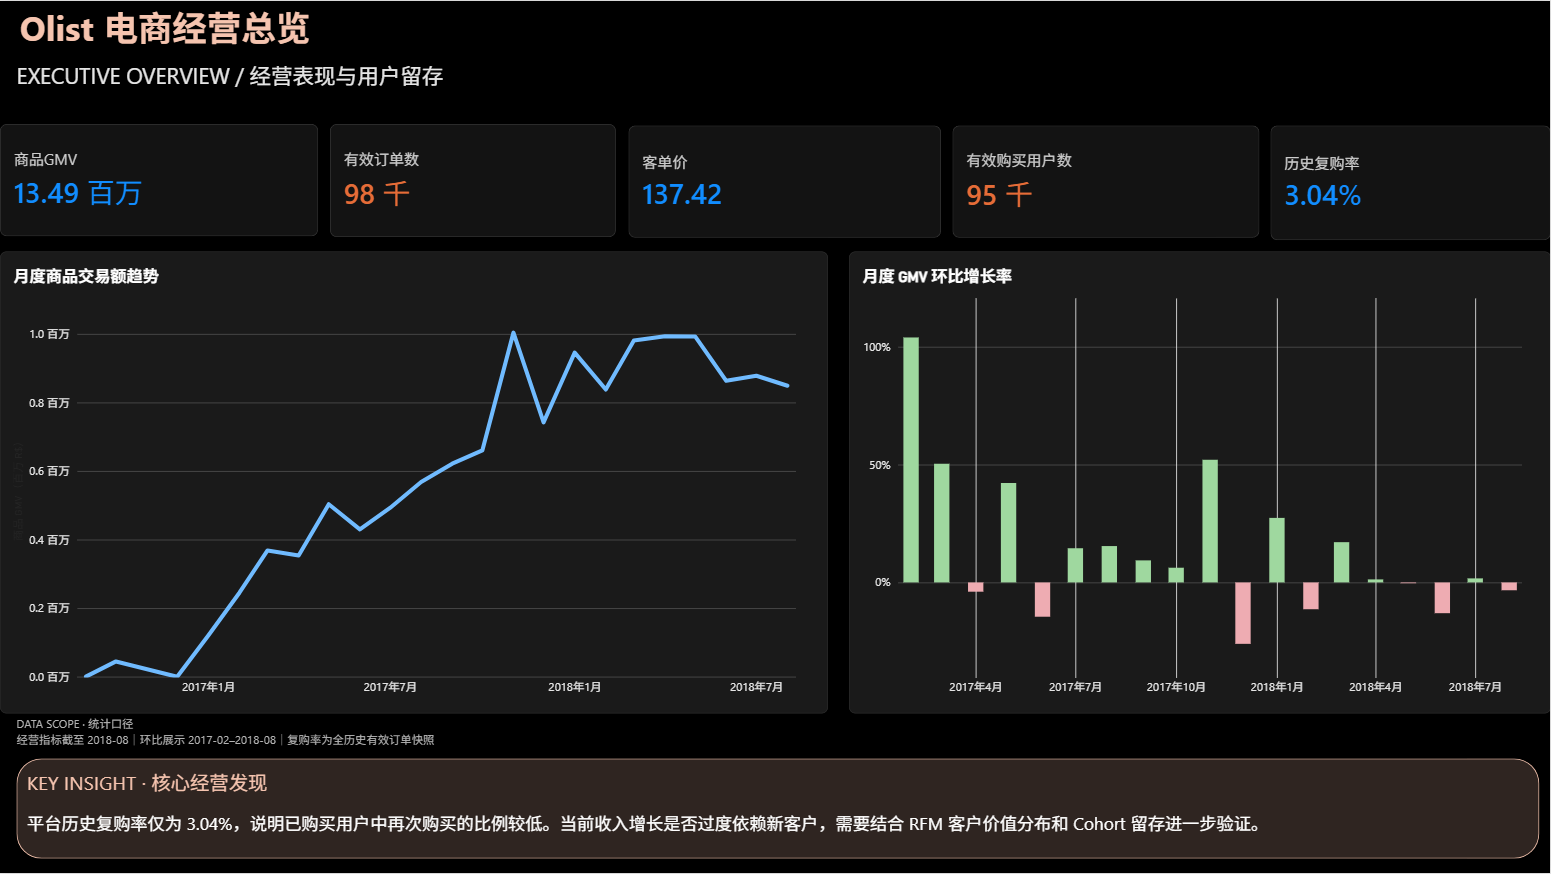

This screenshot's page, from the dashboard's own definition file:
{"tool":"powerbi","page":{"name":"01 | Olist 电商经营总览","canvas":[1920,1080],"ordinal":0},"visuals":[{"type":"cardVisual","title":"商品交易总额（GMV）","fields":{"Data":["bi_fact_order_items.商品GMV"]},"box":[0,153,394.5,139],"z":0},{"type":"lineChart","title":"月度商品交易额趋势","fields":{"Category":["bi_dim_date.month_start.Variation.日期层次结构.年","bi_dim_date.month_start.Variation.日期层次结构.季度","bi_dim_date.month_start.Variation.日期层次结构.月份","bi_dim_date.month_start.Variation.日期层次结构.日"],"Y":["bi_fact_order_items.商品GMV"]},"box":[0,311.1,1025.5,571.8],"z":1000},{"type":"cardVisual","title":"有效订单总数","fields":{"Data":["bi_dim_date.有效订单数"]},"box":[408.5,153,354.6,140.8],"z":2000},{"type":"cardVisual","title":"客单价","fields":{"Data":["bi_dim_date.客单价"]},"box":[778.7,154.7,387.6,139],"z":3000},{"type":"cardVisual","title":"购买用户总数","fields":{"Data":["bi_dim_customers.有效购买用户数"]},"box":[1180.2,154.7,380.6,139],"z":4000},{"type":"cardVisual","title":"复购率","fields":{"Data":["bi_dim_customers_rfm.历史复购率"]},"box":[1573,154.7,347.6,142.5],"z":5000},{"type":"clusteredColumnChart","title":"月度 GMV 环比增长率","fields":{"Category":["bi_dim_date.month_start"],"Y":["bi_fact_order_items.月度GMV环比"]},"box":[1051.5,311.1,869,571.8],"z":6000},{"type":"textbox","box":[0,0,408.5,73],"z":7000},{"type":"textbox","box":[20.9,73,1484.3,64.3],"z":8000},{"type":"shape","box":[21,937.6,1885.7,124],"z":9000},{"type":"textbox","box":[33.2,949.8,1782.7,111.7],"z":10000},{"type":"textbox","box":[21,883.5,1333.9,54.1],"z":11000}]}

Visuals, with their boxes in screenshot pixels (x1, y1, x2, y2), scaled from the page's 1920x1080 canvas onto the 1551x874 screenshot:
"商品交易总额（GMV）" cardVisual: region(0, 124, 319, 236)
"月度商品交易额趋势" lineChart: region(0, 252, 828, 714)
"有效订单总数" cardVisual: region(330, 124, 616, 238)
"客单价" cardVisual: region(629, 125, 942, 238)
"购买用户总数" cardVisual: region(953, 125, 1261, 238)
"复购率" cardVisual: region(1271, 125, 1550, 241)
"月度 GMV 环比增长率" clusteredColumnChart: region(849, 252, 1550, 714)
textbox: region(0, 0, 330, 59)
textbox: region(17, 59, 1216, 111)
shape: region(17, 759, 1540, 859)
textbox: region(27, 769, 1467, 859)
textbox: region(17, 715, 1095, 759)
